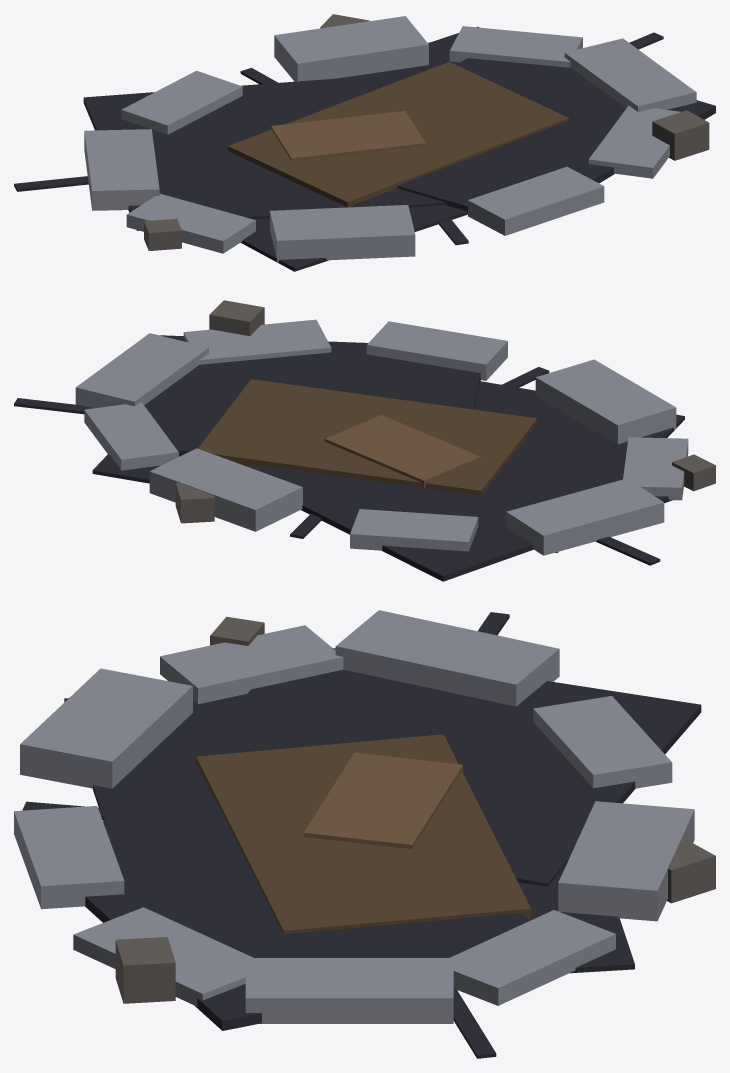
Rendered from CleanACat_Prop_Pothole.fbx.
The picture shows the model from 3 angles, top to bottom: view 1: azimuth 30°, elevation 25°; view 2: azimuth 150°, elevation 25°; view 3: azimuth 270°, elevation 25°; orthographic projection. The views are drawn at different scales.
Parts seen in each view (by area): view 1: CleanACat_Prop_Pothole; view 2: CleanACat_Prop_Pothole; view 3: CleanACat_Prop_Pothole.
Part boxes in pixels (box(x1,y1,x2,y2)): CleanACat_Prop_Pothole: box(14, 14, 715, 271); CleanACat_Prop_Pothole: box(14, 300, 715, 581); CleanACat_Prop_Pothole: box(14, 610, 715, 1058).
Size of the model in its own units: 3.73 by 0.1525 by 2.5.
Materials: 1 (1 with a texture image).
